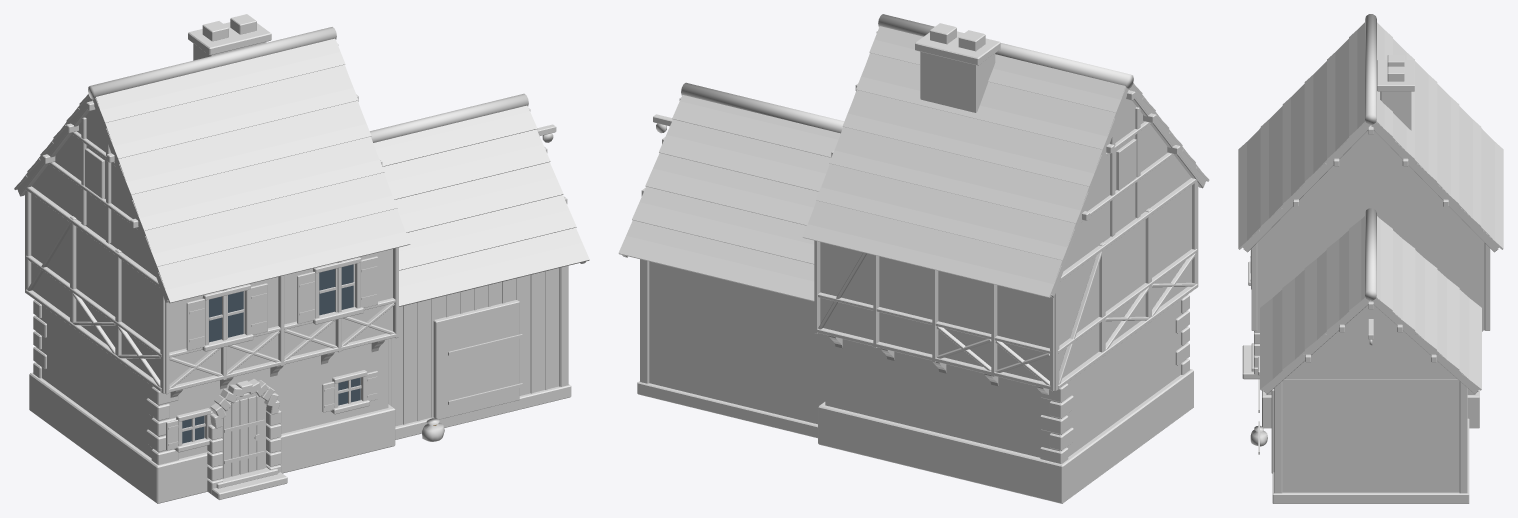
Rendered from col_12_grange_brique.fbx.
3 views of the same model, side by side, from view 1: azimuth 30°, elevation 25°; view 2: azimuth 150°, elevation 25°; view 3: azimuth 270°, elevation 25° (orthographic). The views are drawn at different scales.
Visible parts, largest first — view 1: col_12_grange_brique_LOD0; view 2: col_12_grange_brique_LOD0; view 3: col_12_grange_brique_LOD0.
Part boxes in pixels (x1,y1,x2,y2): col_12_grange_brique_LOD0: [14, 14, 589, 503]; col_12_grange_brique_LOD0: [618, 14, 1209, 503]; col_12_grange_brique_LOD0: [1238, 14, 1503, 503].
Size of what is drawn, in the model's own units: 11.39 by 9.02 by 6.59.
